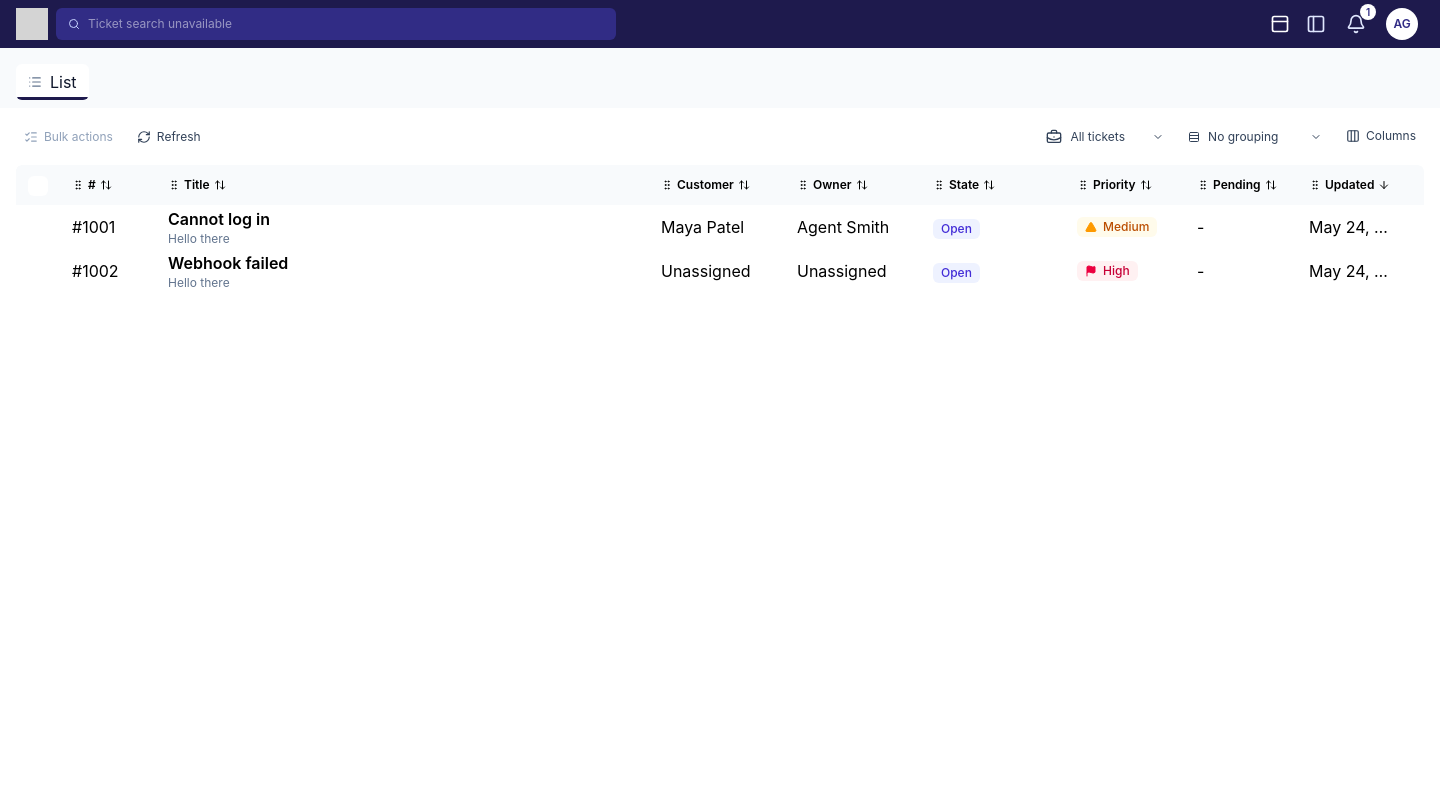
Test: TicketWorkspace notifications › shows the unread count and lists notifications without marking them read
The image size is (1440, 810).
Click the button named "Notifications, 1 unread" at [1356, 24], box [1340, 8, 1372, 40]
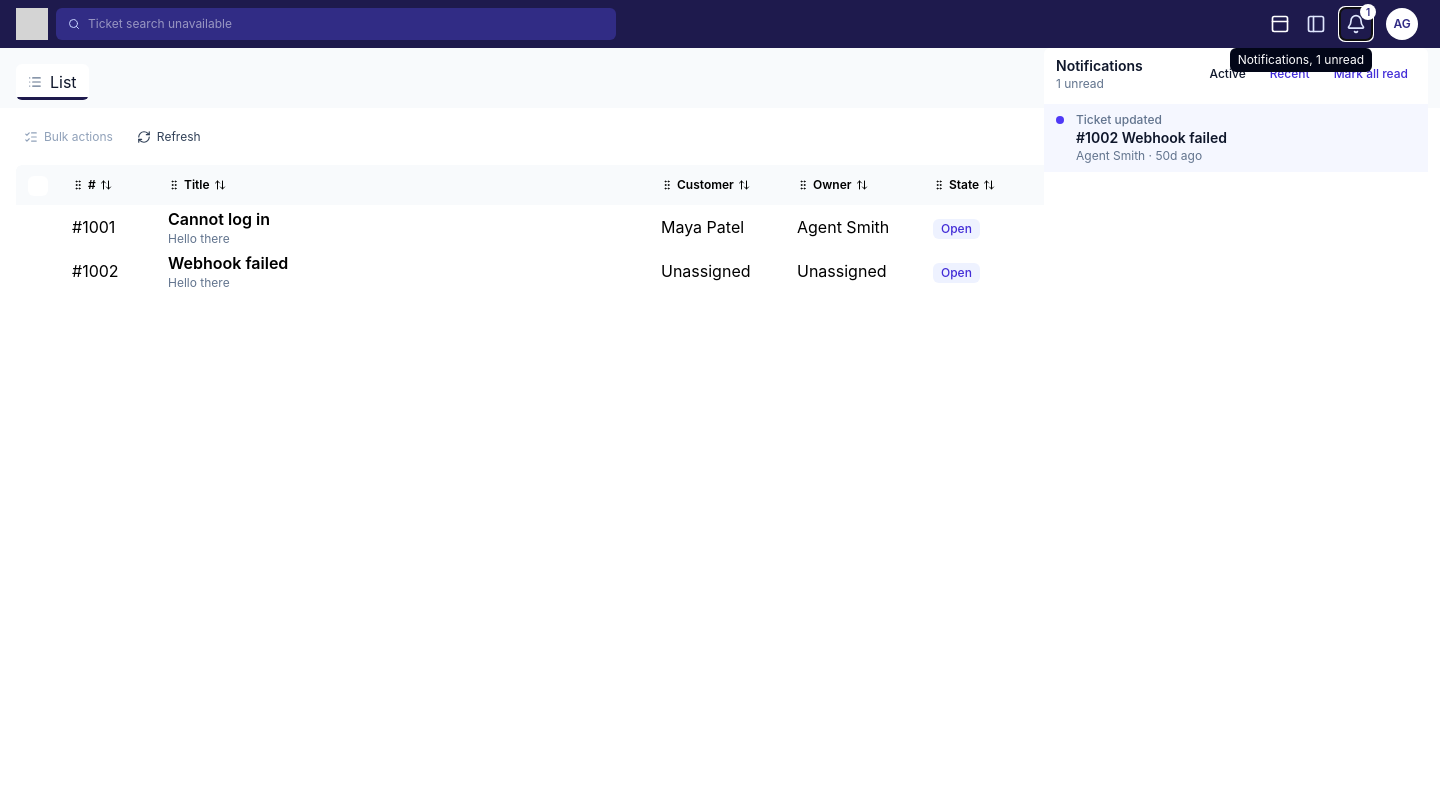
Now the text "Ticket updated" is shown once, box [1076, 112, 1162, 127]
Now the text "#1002 Webhook failed" is shown, box [1076, 129, 1227, 146]
